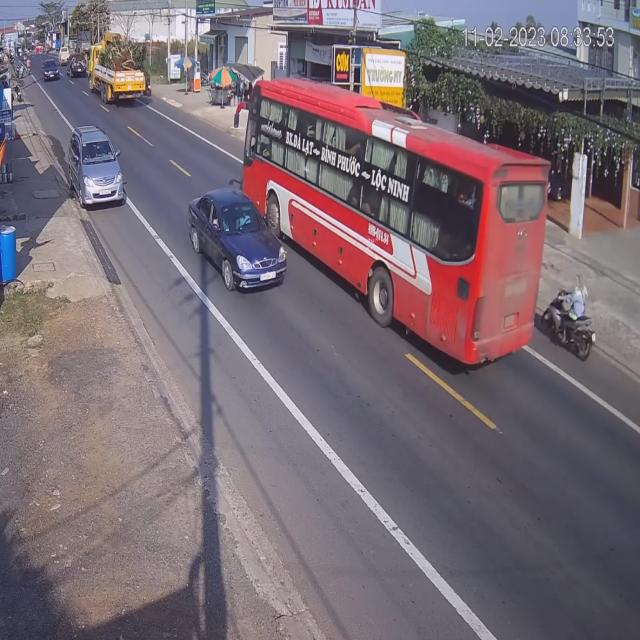bus: (239, 79, 552, 378)
car: (187, 191, 285, 298), (67, 126, 126, 211), (41, 55, 58, 82), (70, 57, 84, 79)
motorbike: (545, 274, 596, 362)
truck: (89, 37, 146, 106)
